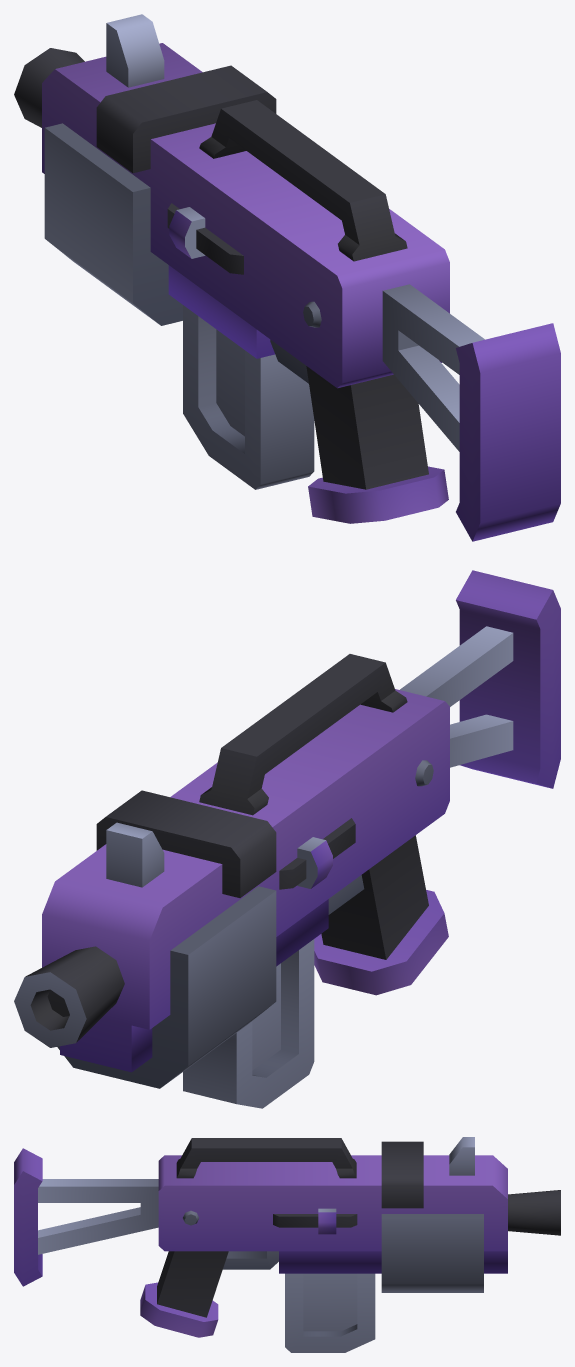
The model's file is blaster-d.glb.
3 views of the same model, one above another, from view 1: azimuth 30°, elevation 25°; view 2: azimuth 150°, elevation 25°; view 3: azimuth 270°, elevation 25° (orthographic). The views are drawn at different scales.
Visible parts, largest first — view 1: blaster-d, magazine; view 2: blaster-d, magazine; view 3: blaster-d, magazine.
Boxes of the visible parts, x1,y1,x2,y2 form: blaster-d: [14, 14, 560, 541]; magazine: [183, 305, 314, 489]; blaster-d: [14, 570, 560, 1088]; magazine: [183, 939, 314, 1108]; blaster-d: [14, 1137, 560, 1337]; magazine: [285, 1273, 375, 1352].
Bounding box in the file's own units: 0.165 × 0.3719 × 0.9079.
